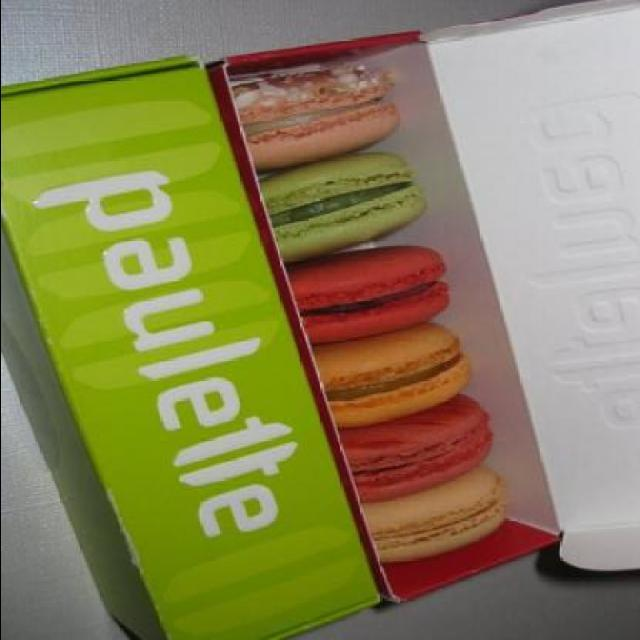Macaron: (290, 41, 493, 612)
